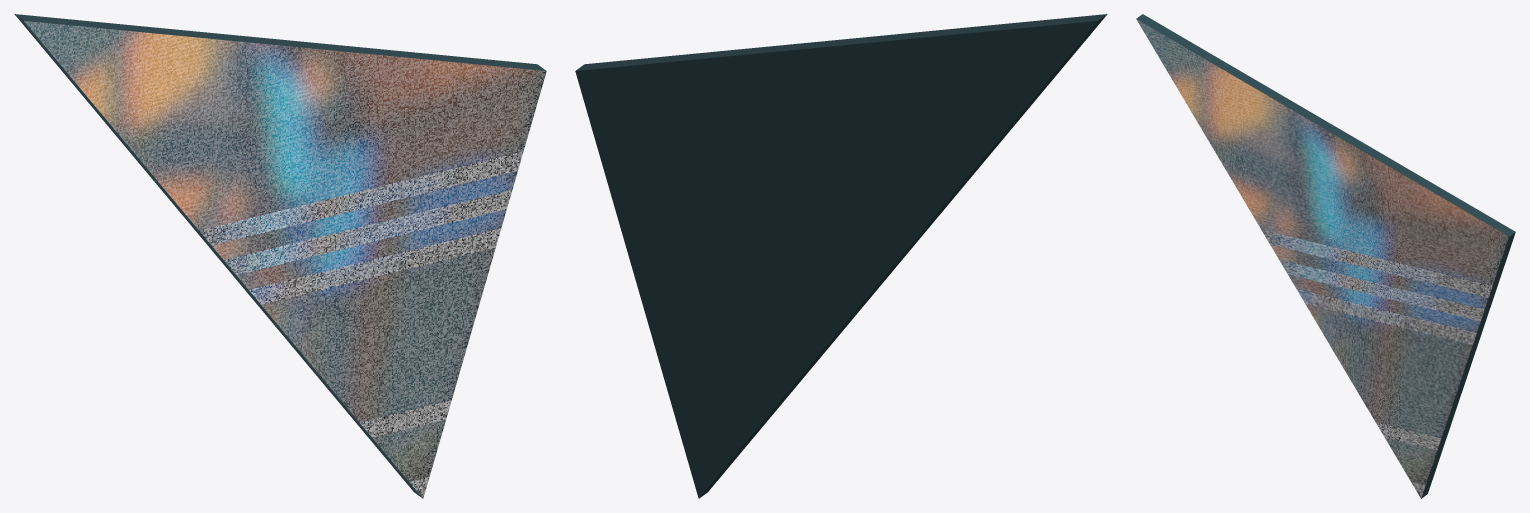
3 renders of one model, left to right at view 1: azimuth 30°, elevation 25°; view 2: azimuth 150°, elevation 25°; view 3: azimuth 330°, elevation 25°, orthographic. The views are drawn at different scales.
Visible parts, largest first — view 1: Piece_04; view 2: Piece_04; view 3: Piece_04.
Boxes of the visible parts, x1,y1,x2,y2 form: Piece_04: (14,14,546,498); Piece_04: (575,14,1107,498); Piece_04: (1136,14,1515,498).
Bounding box in the file's own units: 0.809 × 0.8507 × 0.025.
2 materials, 1 textured.
